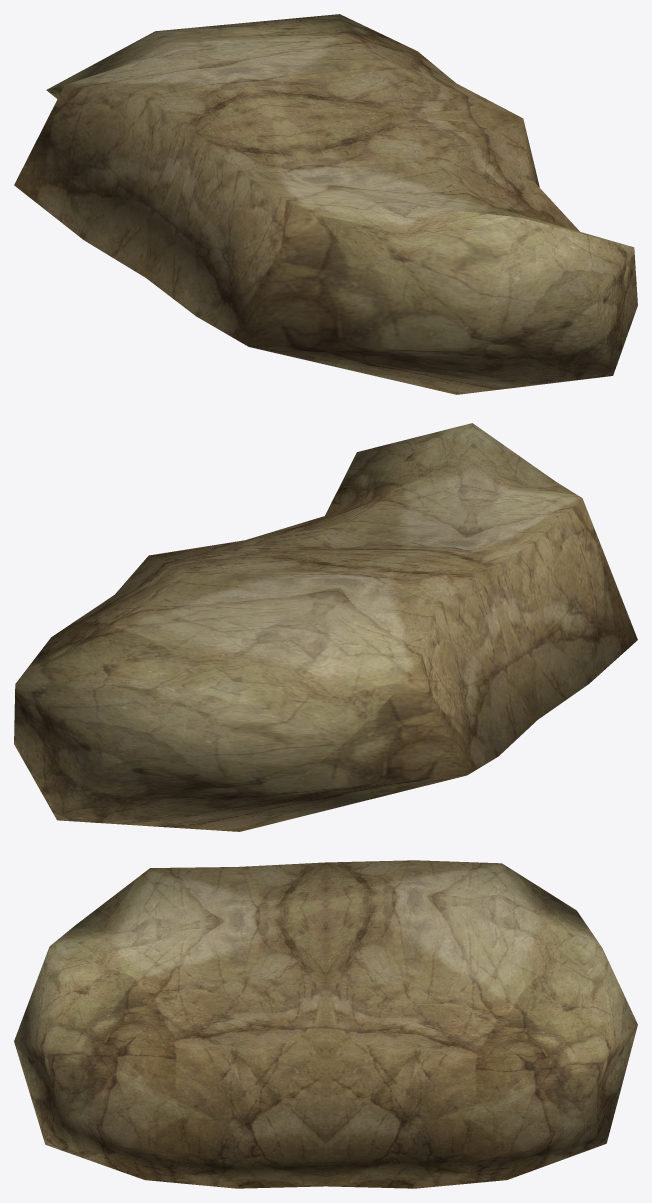
The model's file is Rock04.FBX.
3 renders of one model, top to bottom at view 1: azimuth 30°, elevation 25°; view 2: azimuth 150°, elevation 25°; view 3: azimuth 270°, elevation 25°, orthographic. The views are drawn at different scales.
Parts seen in each view (by area): view 1: Rock04; view 2: Rock04; view 3: Rock04.
Part boxes in pixels (x1,y1,x2,y2): Rock04: [14, 14, 637, 394]; Rock04: [14, 423, 637, 831]; Rock04: [14, 860, 637, 1188].
Size of the model in its own units: 830 by 440 by 1170.
